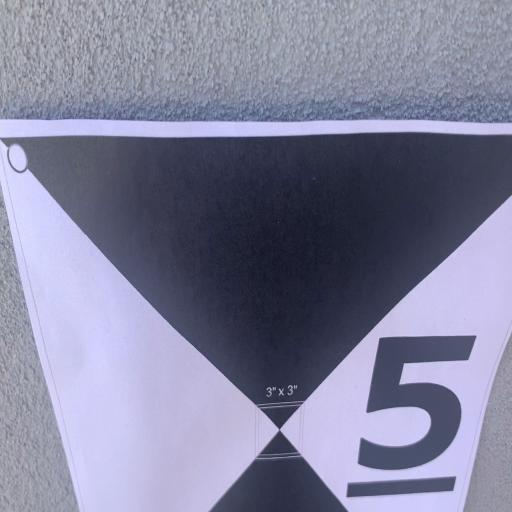target5: (12, 122, 510, 512)
